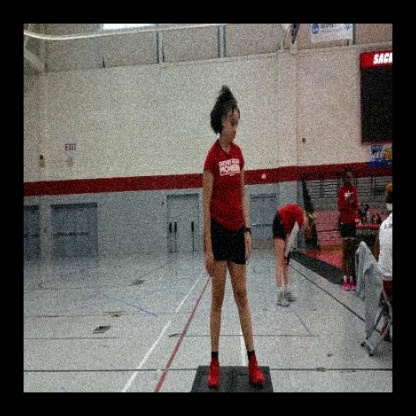lateral_flexion_normal: (201, 86, 265, 390)
stance_width_broad: (201, 135, 264, 388)
